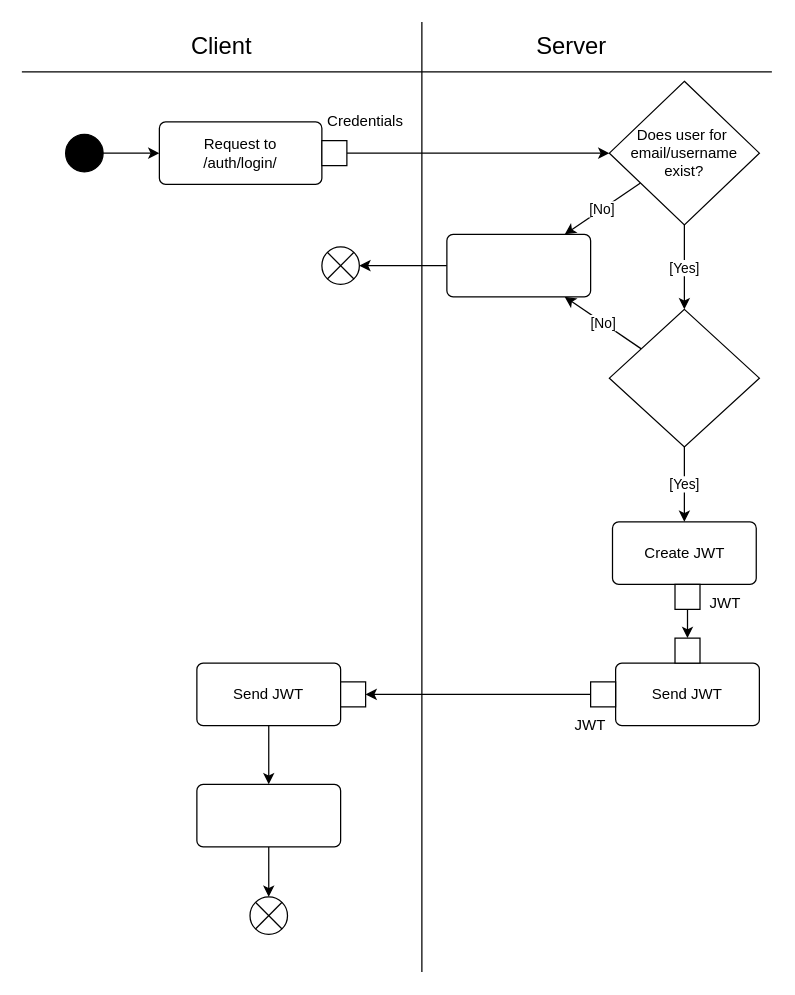
Some shapes in this 795 by 995 pixel diagram are drawn without their labels. Each missing label, with the centre of its shape:
Do password hashes match?: the point at 683,377
Save JWT: the point at 268,815
Send status 401: the point at 518,265
